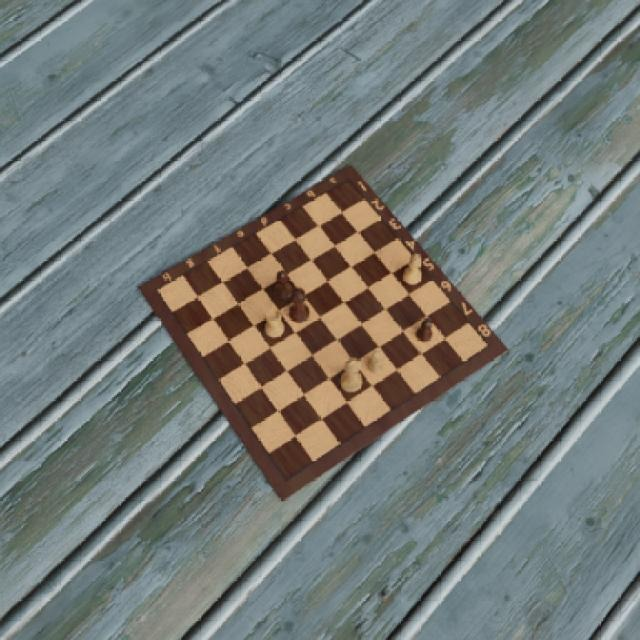black-bishop: (271, 271, 294, 302)
black-king: (288, 286, 312, 325)
black-pawn: (414, 316, 434, 343)
white-bishop: (401, 253, 423, 286)
white-king: (339, 357, 365, 395)
white-pawn: (366, 348, 388, 376)
white-rook: (263, 308, 285, 340)
